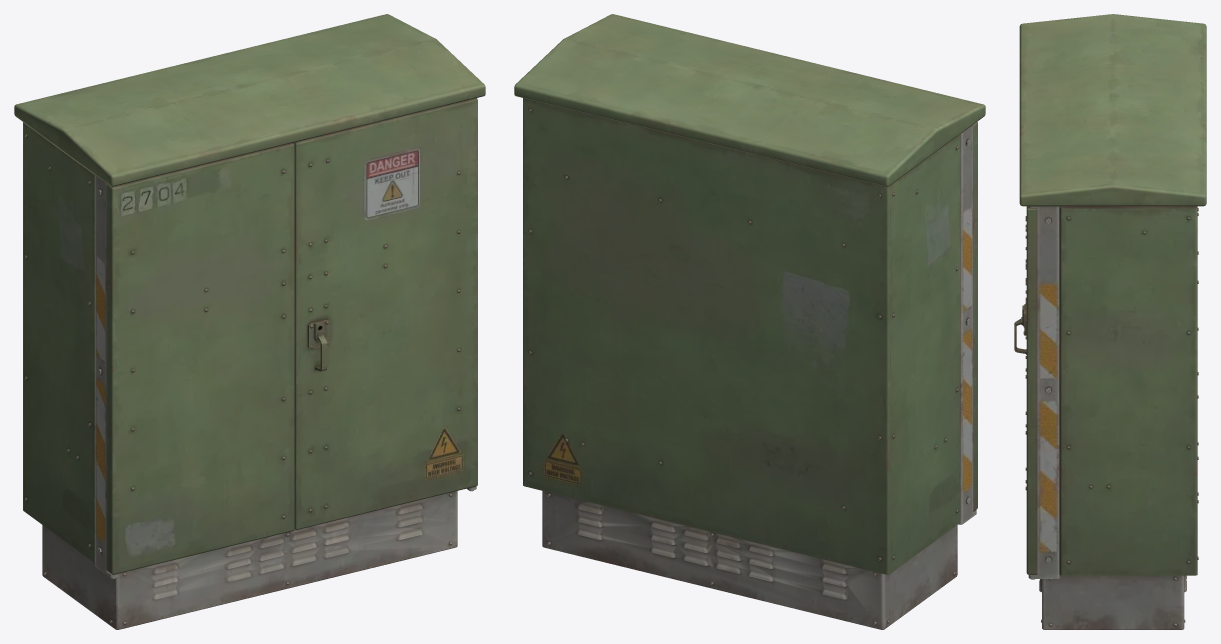
The model's file is utility_box_02.glb.
The picture shows the model from 3 angles, left to right: view 1: azimuth 30°, elevation 25°; view 2: azimuth 150°, elevation 25°; view 3: azimuth 270°, elevation 25°; orthographic projection. The views are drawn at different scales.
Visible parts, largest first — view 1: utility_box_02; view 2: utility_box_02; view 3: utility_box_02.
Part boxes in pixels (box(x1,y1,x2,y2)): utility_box_02: box(14, 14, 485, 629); utility_box_02: box(514, 14, 985, 629); utility_box_02: box(1014, 14, 1206, 629).
Bounding box in the file's own units: 0.92 × 1.12 × 0.432.
1 material, 1 textured.
